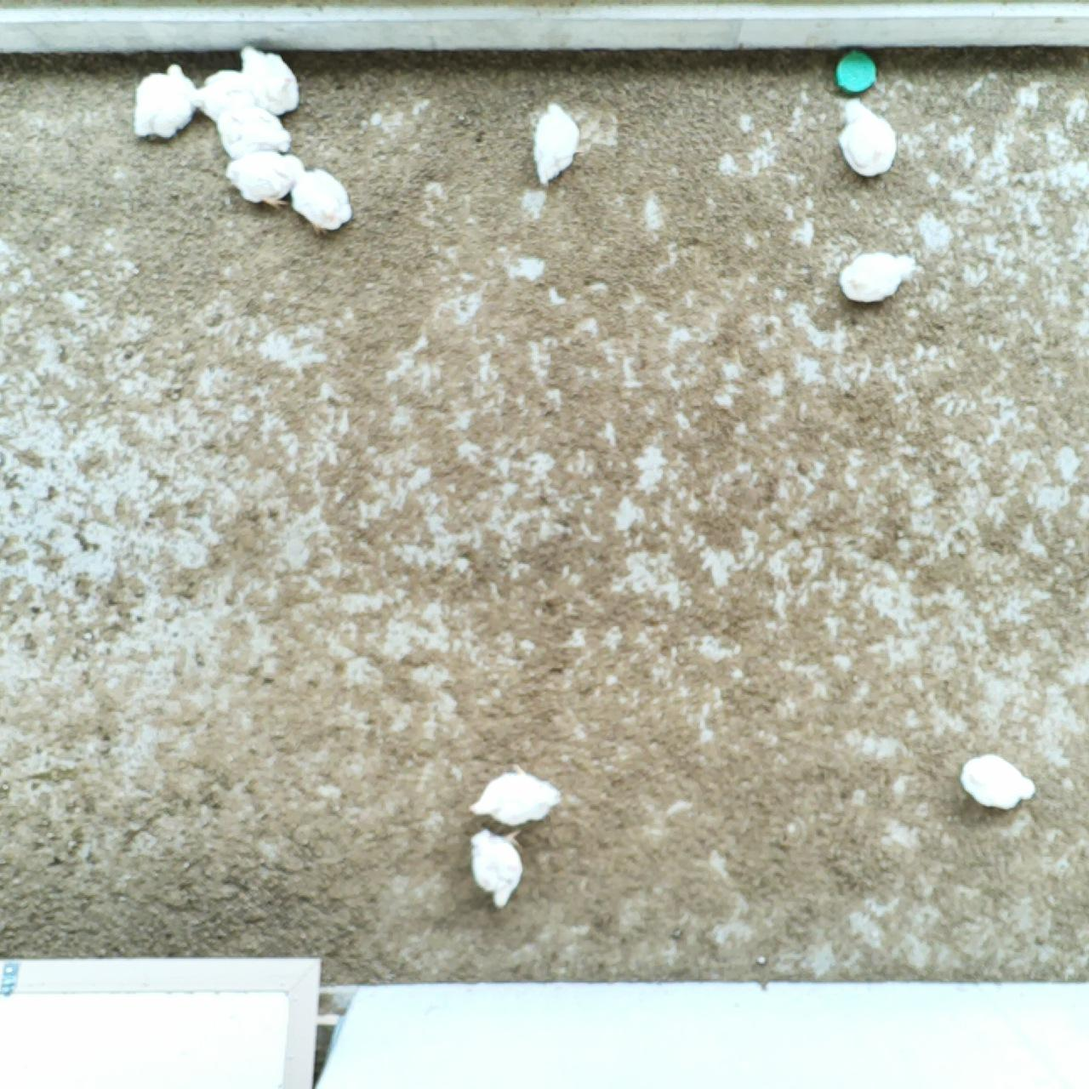chicken: (468, 760, 564, 829), (463, 824, 534, 913), (127, 58, 199, 143), (210, 92, 293, 164), (952, 747, 1038, 816), (223, 146, 306, 209), (836, 244, 923, 304), (837, 97, 898, 182), (232, 41, 302, 115), (186, 63, 263, 130), (525, 103, 585, 186), (279, 161, 352, 228)
